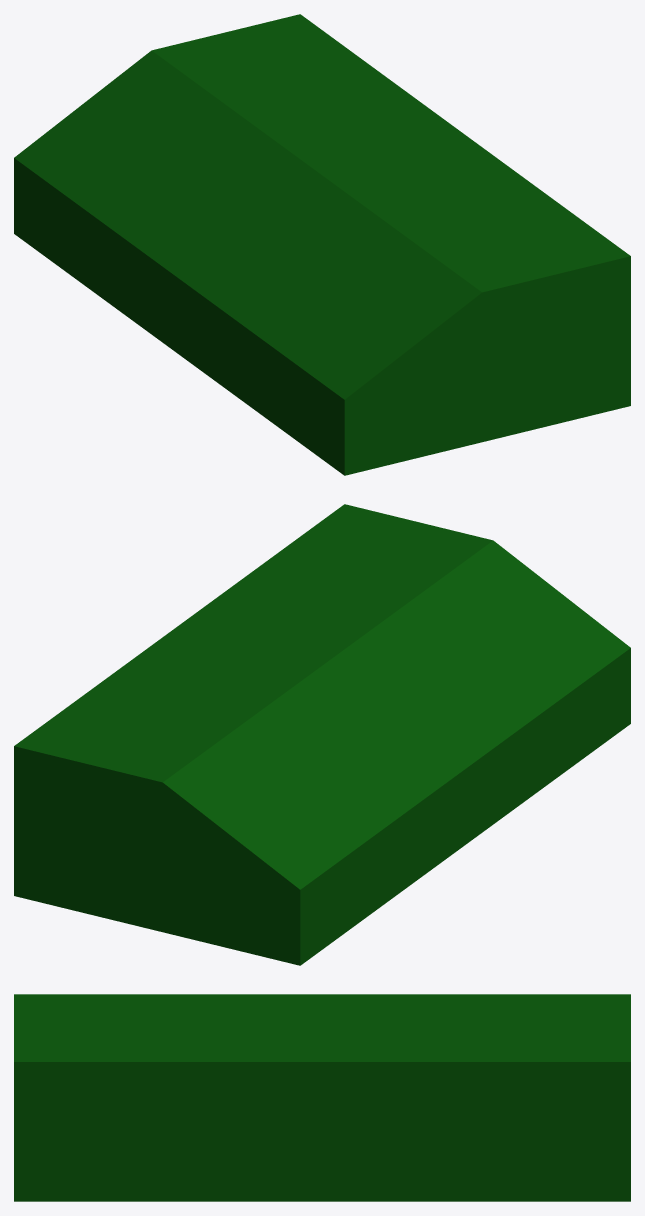
Rendered from TowerPlaceholder.fbx.
3 renders of one model, top to bottom at view 1: azimuth 30°, elevation 25°; view 2: azimuth 150°, elevation 25°; view 3: azimuth 270°, elevation 25°, orthographic. The views are drawn at different scales.
Visible parts, largest first — view 1: Cube.001; view 2: Cube.001; view 3: Cube.001.
Boxes of the visible parts, left/top/right/bottom form: Cube.001: left=14, top=14, right=630, bottom=475; Cube.001: left=14, top=504, right=630, bottom=965; Cube.001: left=14, top=994, right=630, bottom=1201.
Size of the model in its own units: 100 by 50 by 200.
